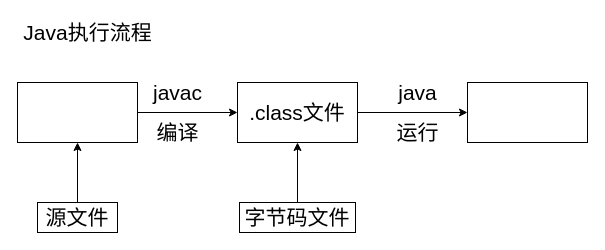
Image size: 605x250. Some labels were removed from this diagram. The centre of each missing label's shape, as x and y in pixels:
".java文件" goes at pixel 77 112.
"结果" goes at pixel 527 112.
